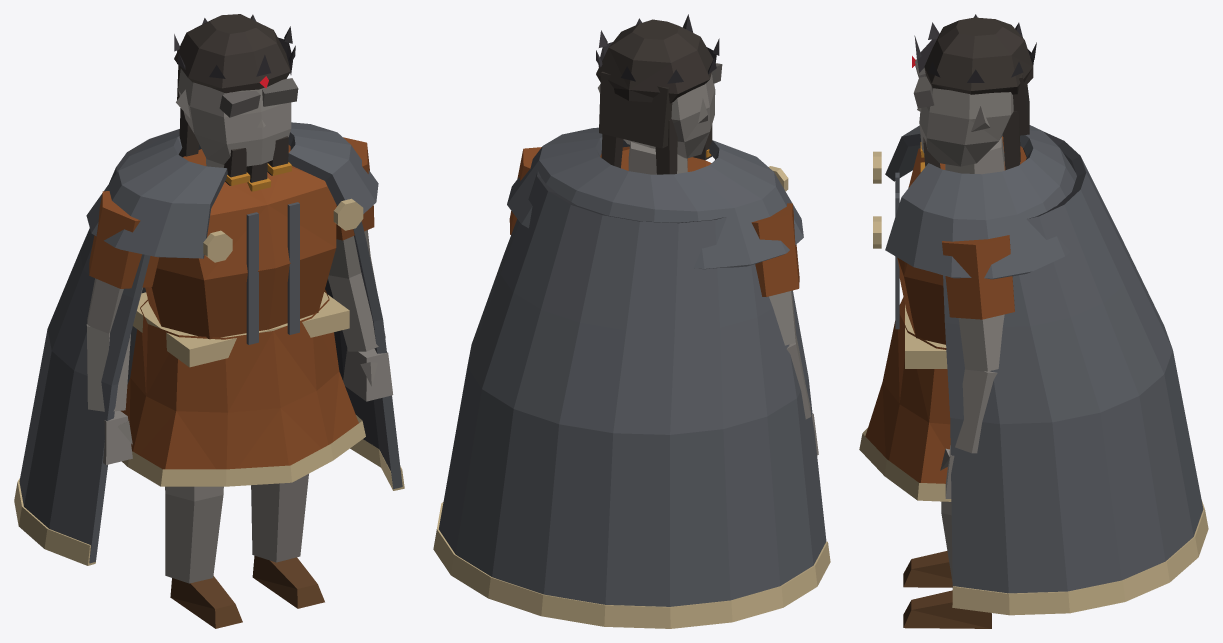
The model's file is oduvar.glb.
3 renders of one model, left to right at view 1: azimuth 30°, elevation 25°; view 2: azimuth 150°, elevation 25°; view 3: azimuth 270°, elevation 25°, orthographic.
Parts seen in each view (by area): view 1: Skirt, Cloak, Torso, Mantle, HairCap, Head, Leg.001, Hem, Leg, Belt, Sleeve.001, CloakHem (+17 smaller); view 2: Cloak, Mantle, CloakHem, HairCap, HairBack, Sleeve.001, Head, Neck, UpperArm.001, Braid.001, Forearm.001, Braid; view 3: Cloak, Mantle, Skirt, HairCap, CloakHem, Head, Sleeve, Torso, Foot, UpperArm, Forearm, Hem (+7 smaller).
Part boxes in pixels (x1,y1,x2,y2): Skirt: [121, 289, 358, 469]; Cloak: [19, 129, 402, 563]; Torso: [145, 145, 336, 339]; Mantle: [86, 122, 378, 258]; HairCap: [174, 14, 290, 93]; Head: [178, 68, 291, 166]; Leg.001: [165, 486, 223, 583]; Hem: [122, 415, 365, 486]; Leg: [251, 474, 308, 562]; Belt: [133, 292, 349, 367]; Sleeve.001: [89, 191, 158, 288]; CloakHem: [14, 439, 404, 565]; Cloak: [439, 171, 826, 606]; Mantle: [507, 127, 803, 269]; CloakHem: [433, 502, 830, 628]; HairCap: [596, 19, 713, 103]; HairBack: [599, 71, 672, 148]; Sleeve.001: [751, 203, 799, 296]; Head: [623, 73, 715, 158]; Neck: [628, 142, 687, 174]; UpperArm.001: [769, 290, 796, 345]; Braid.001: [655, 119, 677, 174]; Forearm.001: [786, 336, 810, 419]; Braid: [601, 134, 623, 168]; Cloak: [943, 131, 1203, 593]; Mantle: [885, 125, 1076, 279]; Skirt: [865, 297, 950, 483]; HairCap: [924, 17, 1033, 94]; CloakHem: [952, 500, 1208, 615]; Head: [919, 74, 1013, 166]; Sleeve: [942, 235, 1014, 319]; Torso: [897, 139, 1026, 344]; Foot: [903, 590, 991, 628]; UpperArm: [958, 314, 1004, 371]; Forearm: [955, 369, 997, 453]; Hem: [859, 428, 951, 501].
Size of the model in its own units: 1.01 by 1.58 by 0.8686.
